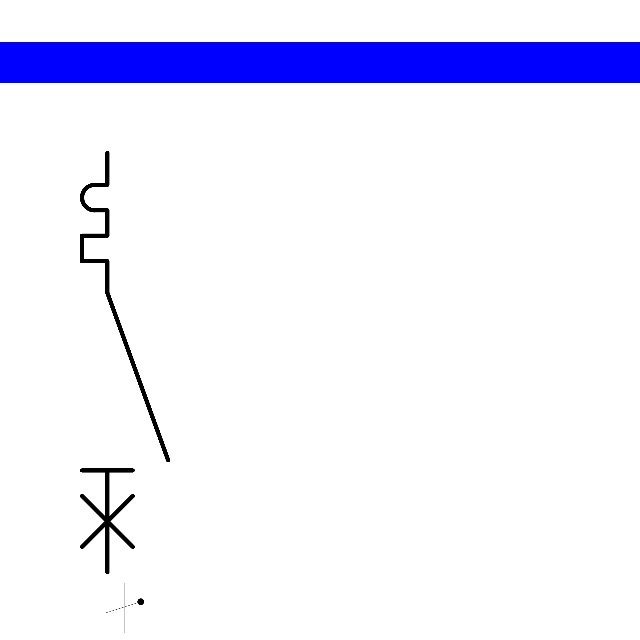interruptor_termomagnetico: (71, 142, 179, 583)
